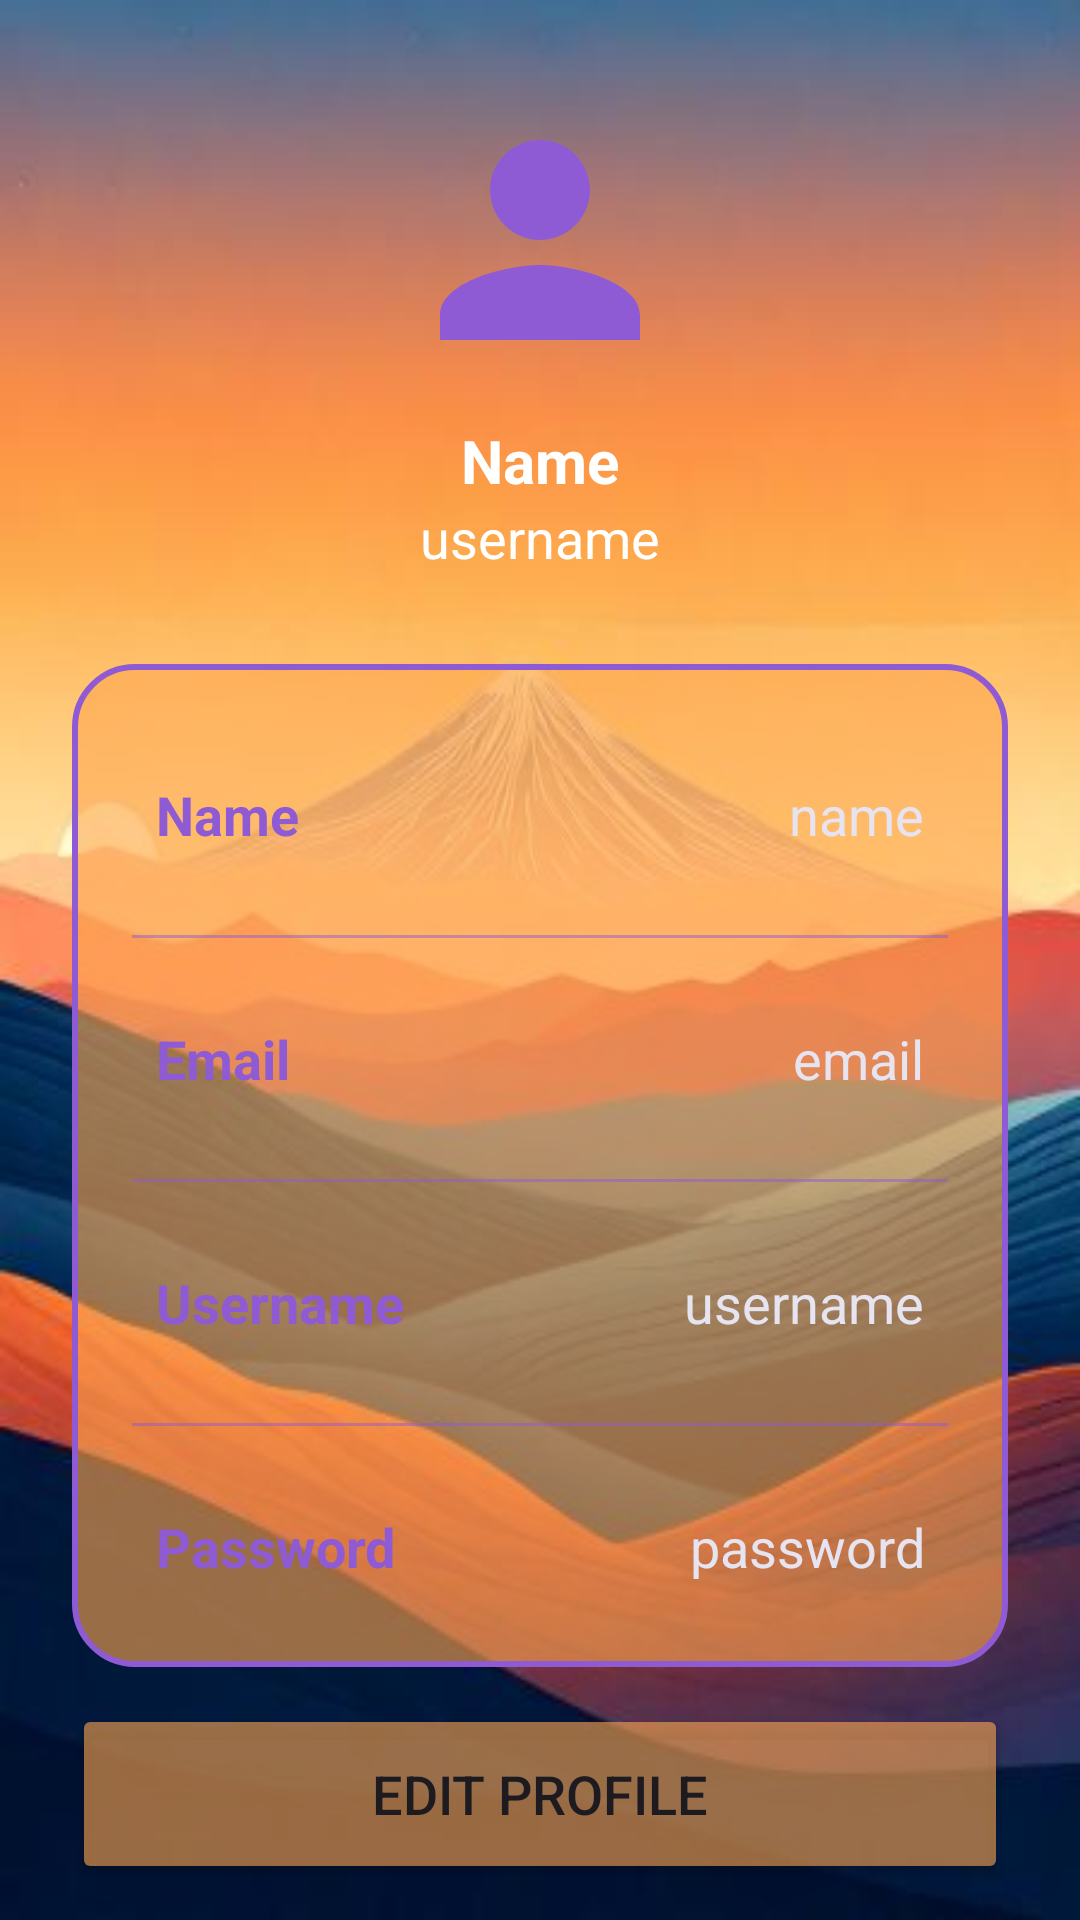

Named icons in this screenshot (1080w x 1920h) and their centers, point (x, y):
person: point (540, 240)
